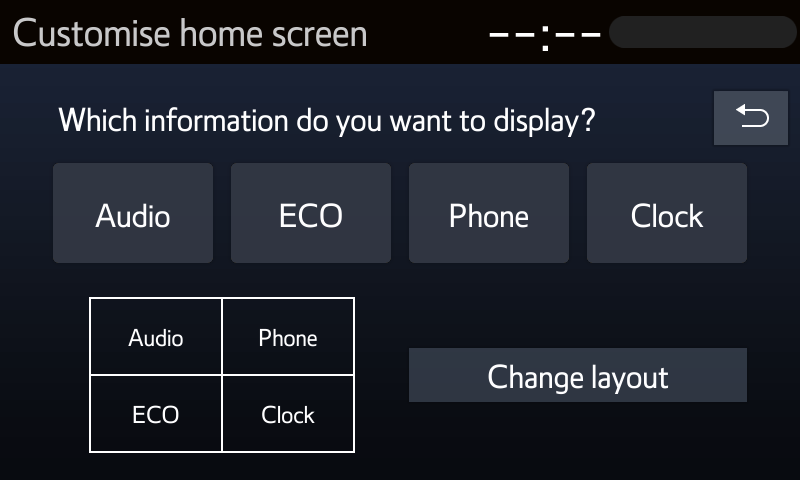touchPart: (409, 348, 750, 404), (582, 161, 750, 266), (229, 161, 392, 266), (51, 161, 215, 265), (407, 162, 572, 264), (713, 89, 791, 150)
untouchPart: (84, 295, 358, 454), (53, 99, 597, 137), (8, 11, 372, 51), (608, 12, 797, 51), (480, 10, 600, 58)
